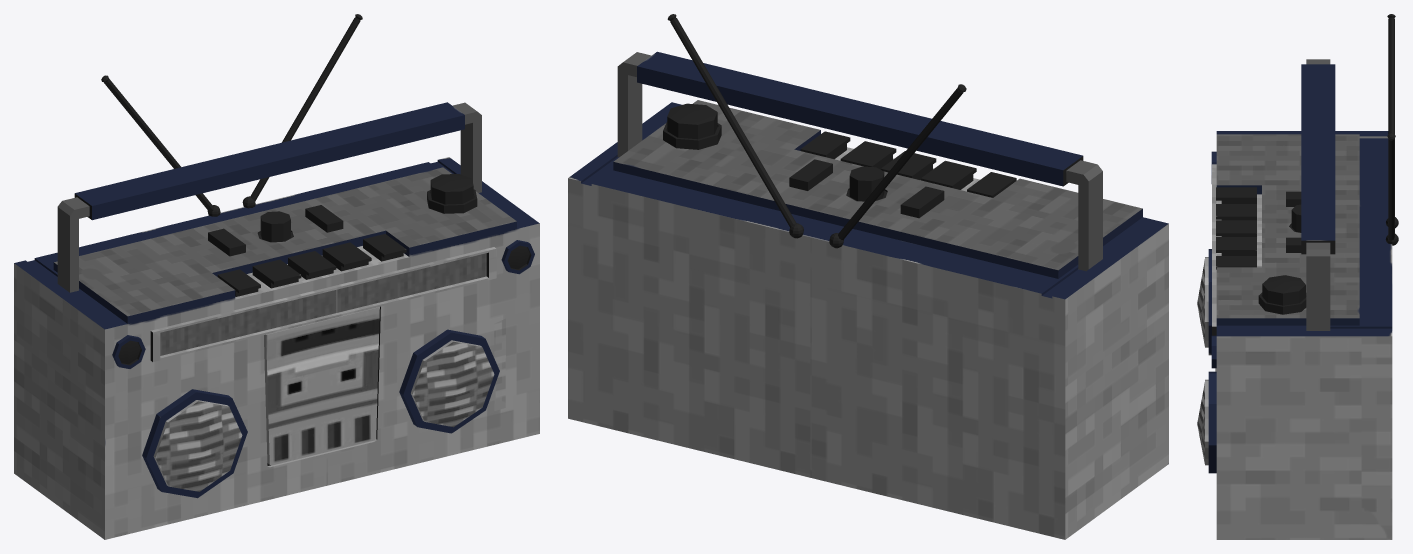
Rendered from Radiocassette.fbx.
The picture shows the model from 3 angles, left to right: view 1: azimuth 30°, elevation 25°; view 2: azimuth 150°, elevation 25°; view 3: azimuth 270°, elevation 25°; orthographic projection. The views are drawn at different scales.
Visible parts, largest first — view 1: RadioCassette; view 2: RadioCassette; view 3: RadioCassette.
Boxes of the visible parts, bbox=[...] form: RadioCassette: bbox=[14, 14, 539, 539]; RadioCassette: bbox=[568, 14, 1168, 539]; RadioCassette: bbox=[1197, 14, 1398, 539].
Bounding box in the file's own units: 60.03 × 49.53 × 24.9.
